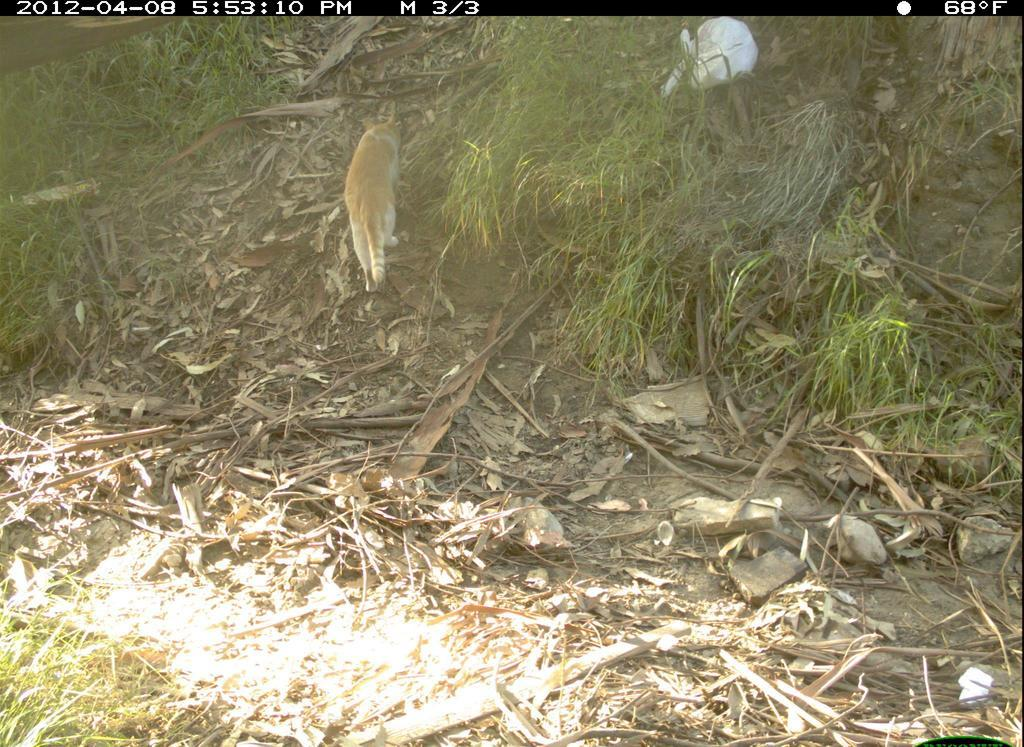cat: (319, 90, 431, 309)
